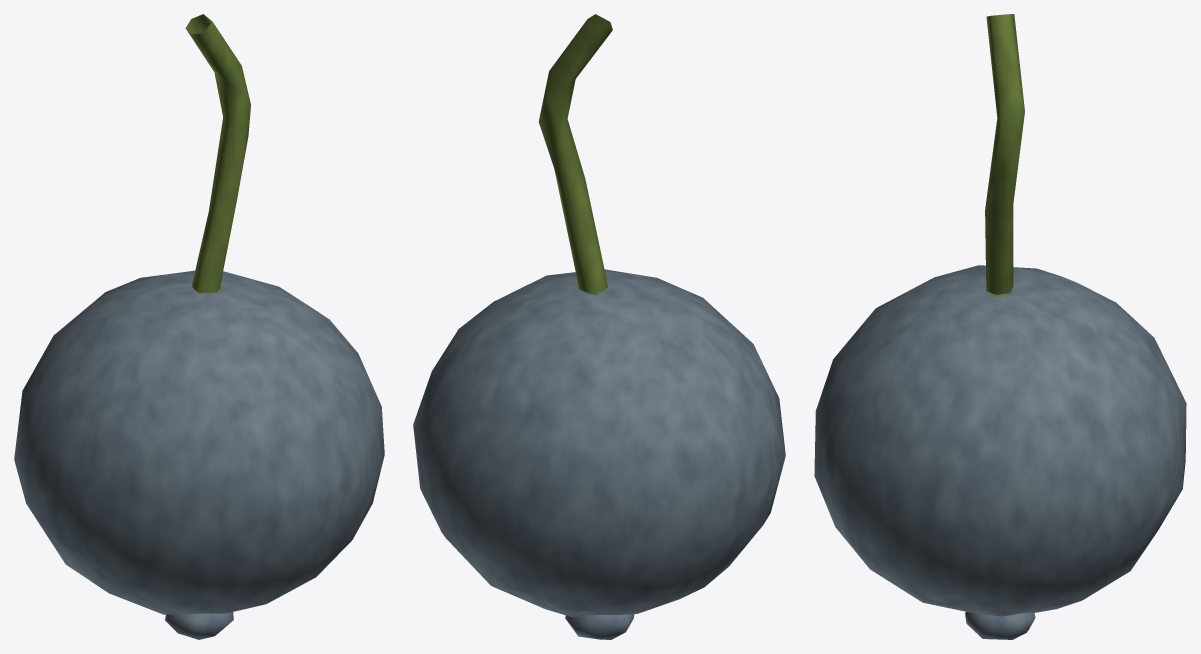
Rendered from juniper_berry.glb.
3 views of the same model, side by side, from view 1: azimuth 30°, elevation 25°; view 2: azimuth 150°, elevation 25°; view 3: azimuth 270°, elevation 25° (orthographic).
Visible parts, largest first — view 1: juniper_berry; view 2: juniper_berry; view 3: juniper_berry.
Boxes of the visible parts, <box> form: juniper_berry: <box>14,14,384,639</box>; juniper_berry: <box>413,14,785,639</box>; juniper_berry: <box>814,14,1186,639</box>.
Bounding box in the file's own units: 0.00802 × 0.014 × 0.00791.
1 material, 1 textured.
